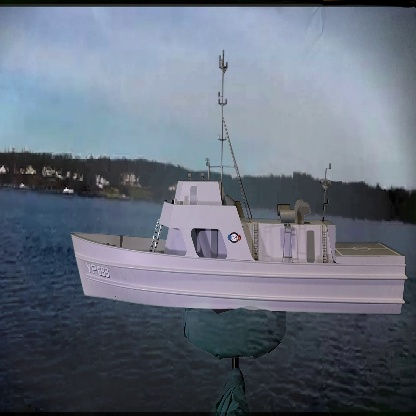YP689: (70, 49, 407, 318)
